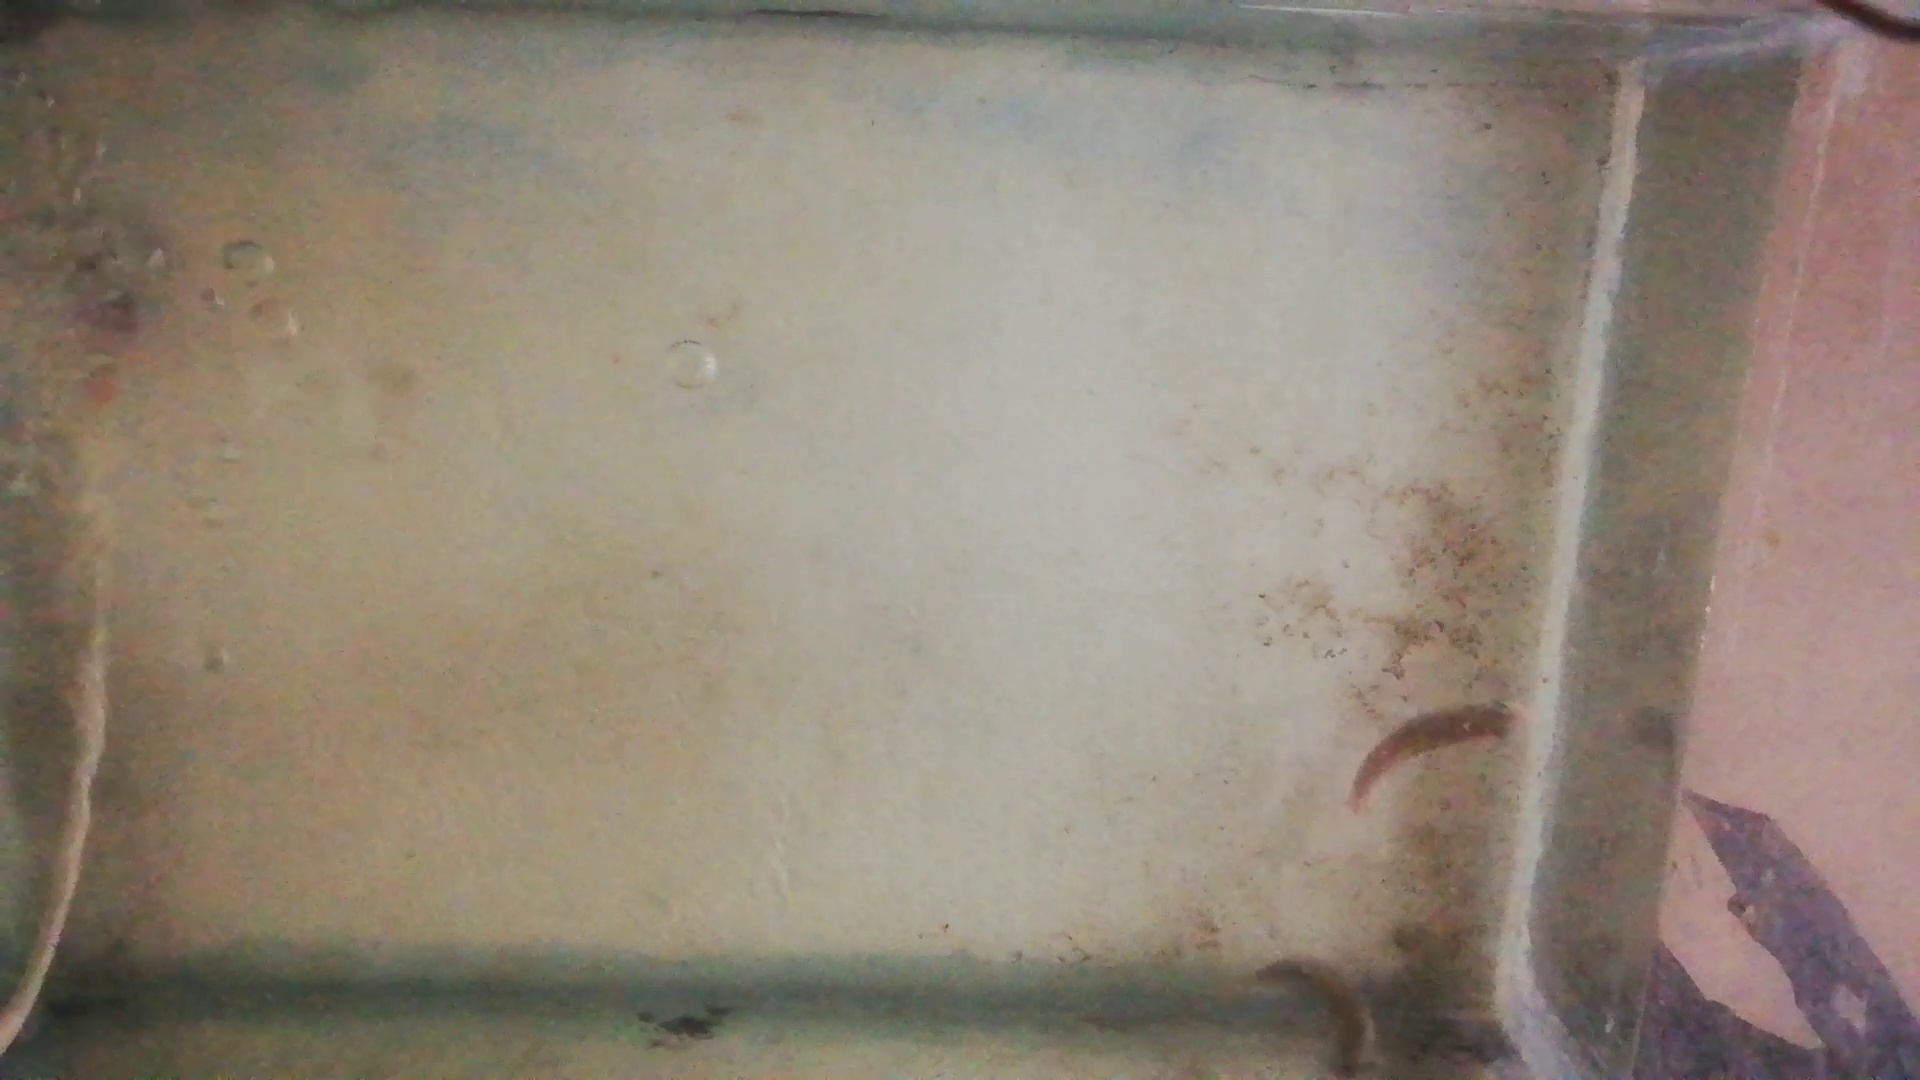fish: (1350, 700, 1524, 810), (1261, 957, 1378, 1075)
